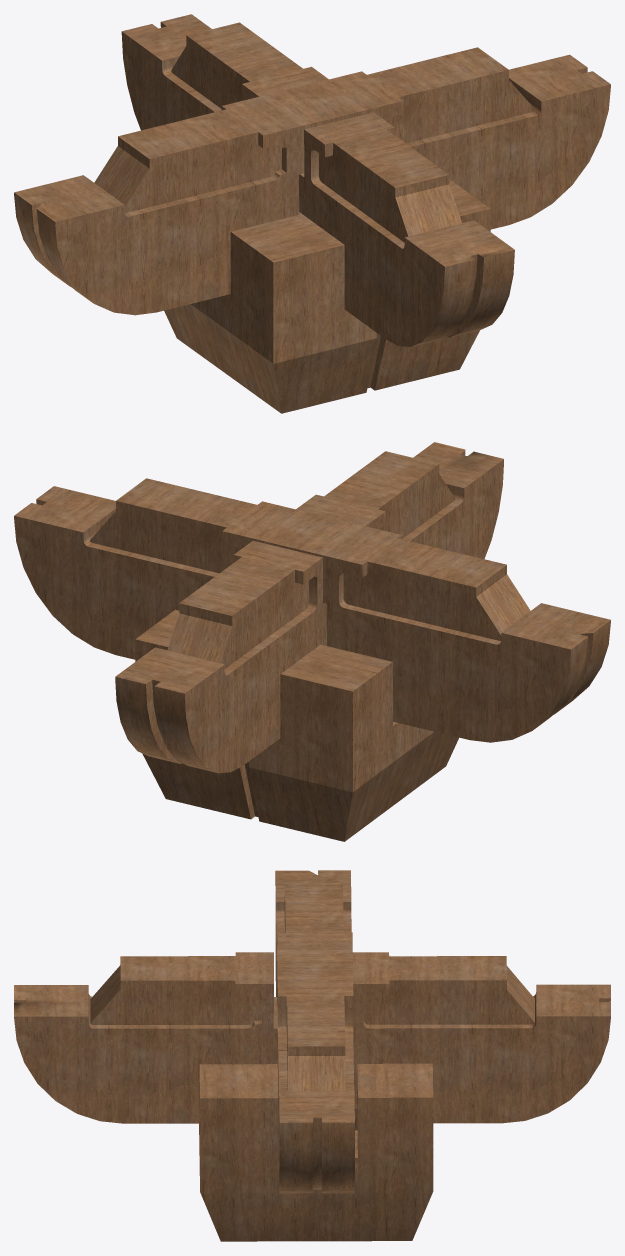
3 renders of one model, top to bottom at view 1: azimuth 30°, elevation 25°; view 2: azimuth 150°, elevation 25°; view 3: azimuth 270°, elevation 25°, orthographic. The views are drawn at different scales.
Visible parts, largest first — view 1: 空白; view 2: 空白; view 3: 空白.
Part boxes in pixels (x1,y1,x2,y2): 空白: (14, 14, 610, 413); 空白: (14, 442, 610, 841); 空白: (14, 870, 610, 1241).
Size of the model in its own units: 0.7751 by 0.3346 by 0.7746.
Materials: 1 (1 with a texture image).
